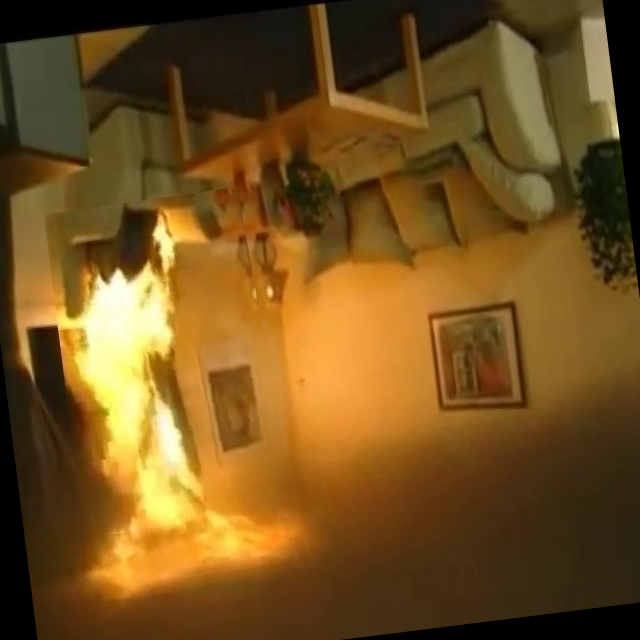fire: (57, 257, 265, 586)
smoke: (294, 393, 640, 640)
